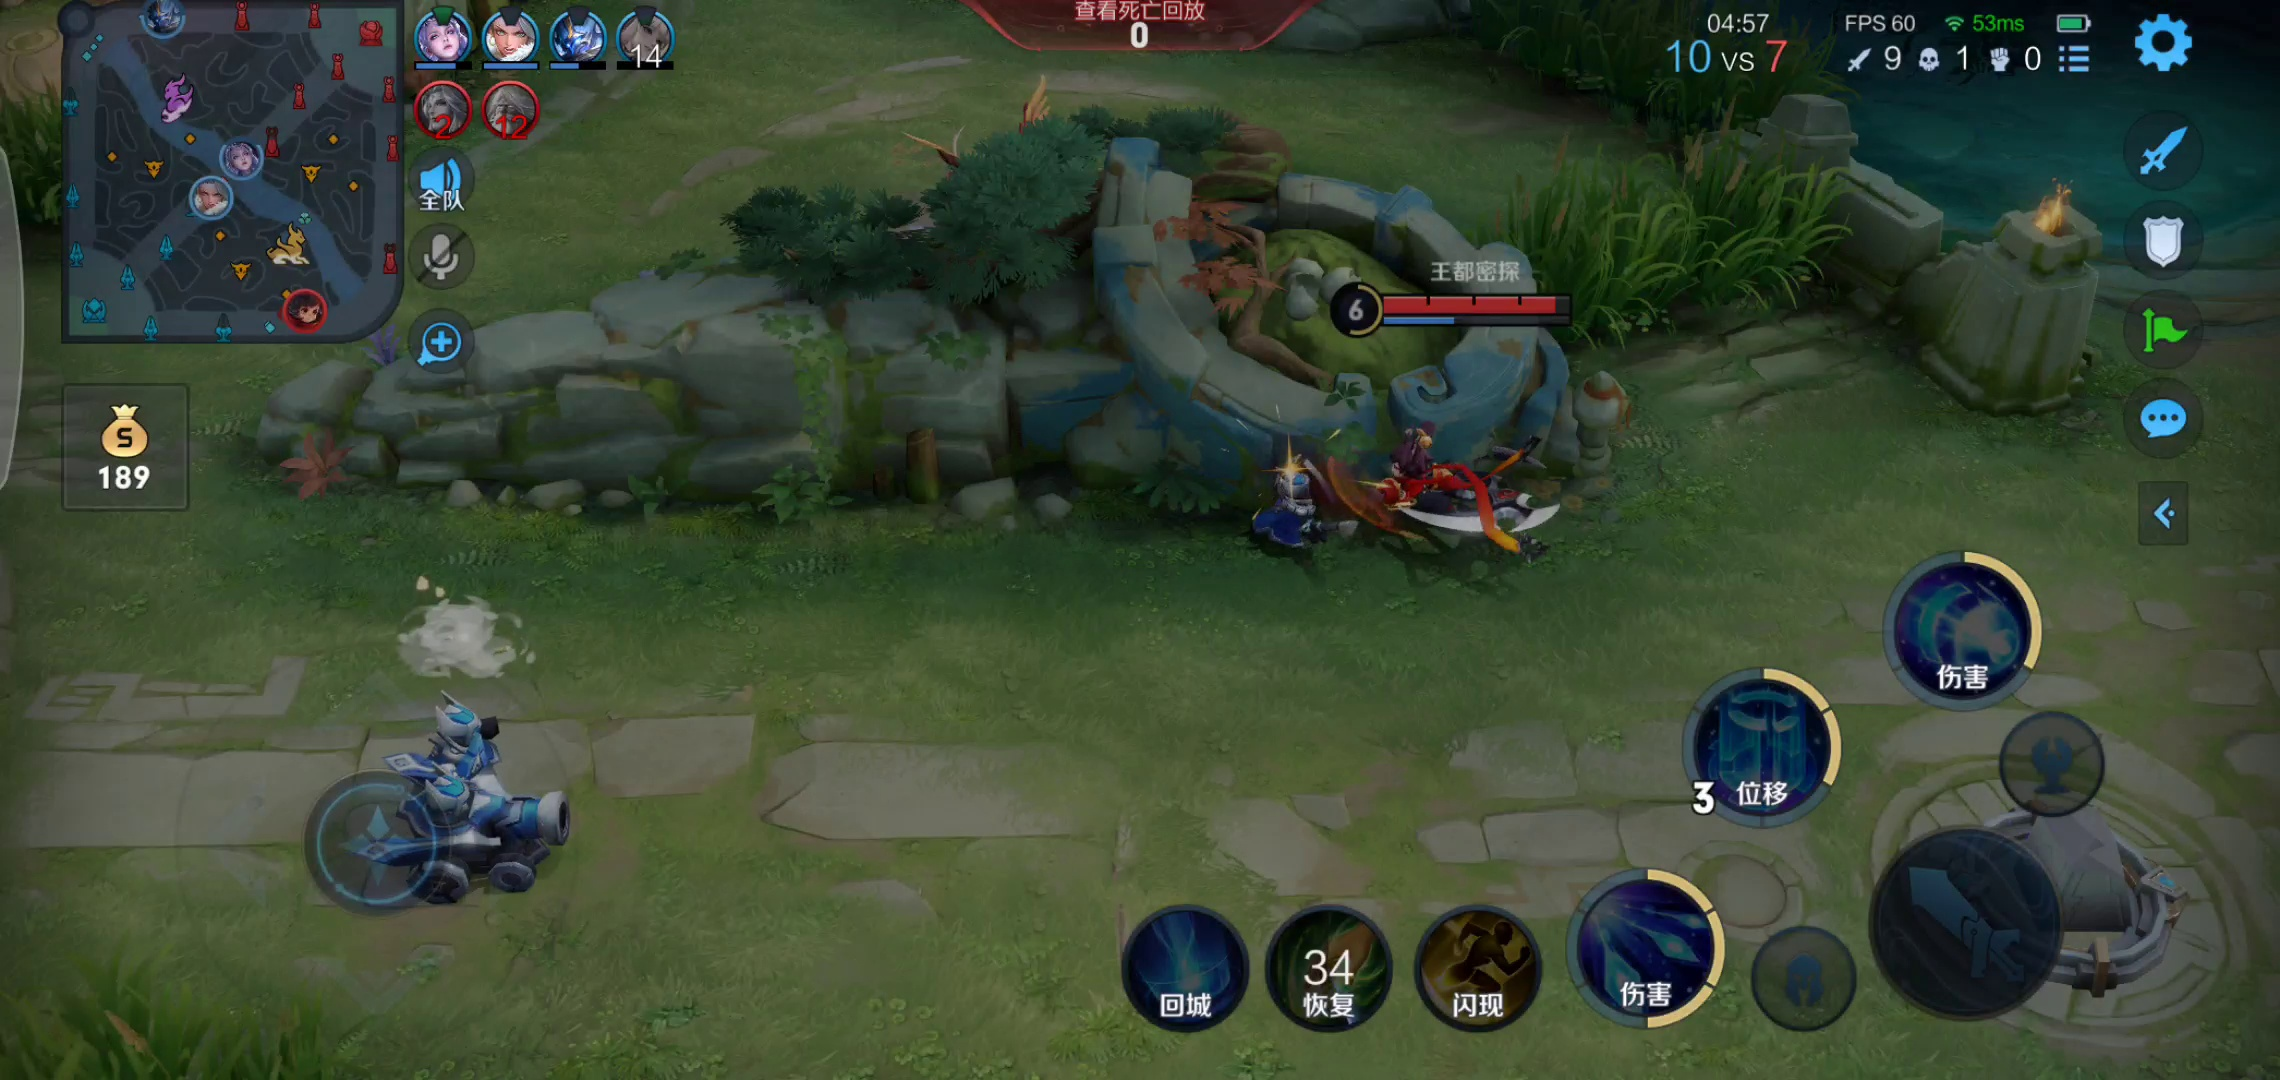grass: (1454, 147, 1837, 330)
hero: (1344, 420, 1559, 581)
soldier: (390, 767, 592, 903), (385, 688, 529, 783), (1240, 446, 1336, 551)
tower: (1963, 794, 2228, 984)
